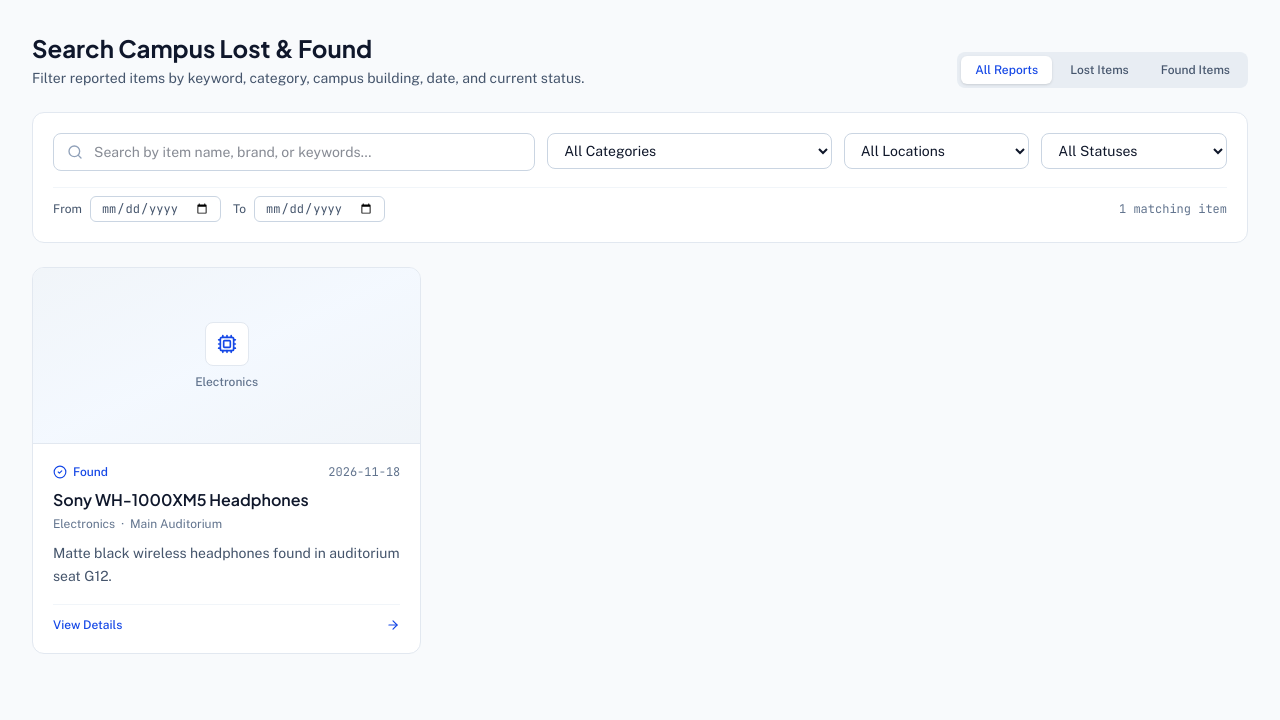
Test: Validation Testing Suite › TC-VAL-12: Flags invalid search input containing HTML/script angle brackets
Step 1. Type "<script>alert(1)</script>" into the search field named "Search by item name or keywords" → (294, 152), box [53,133,535,171]
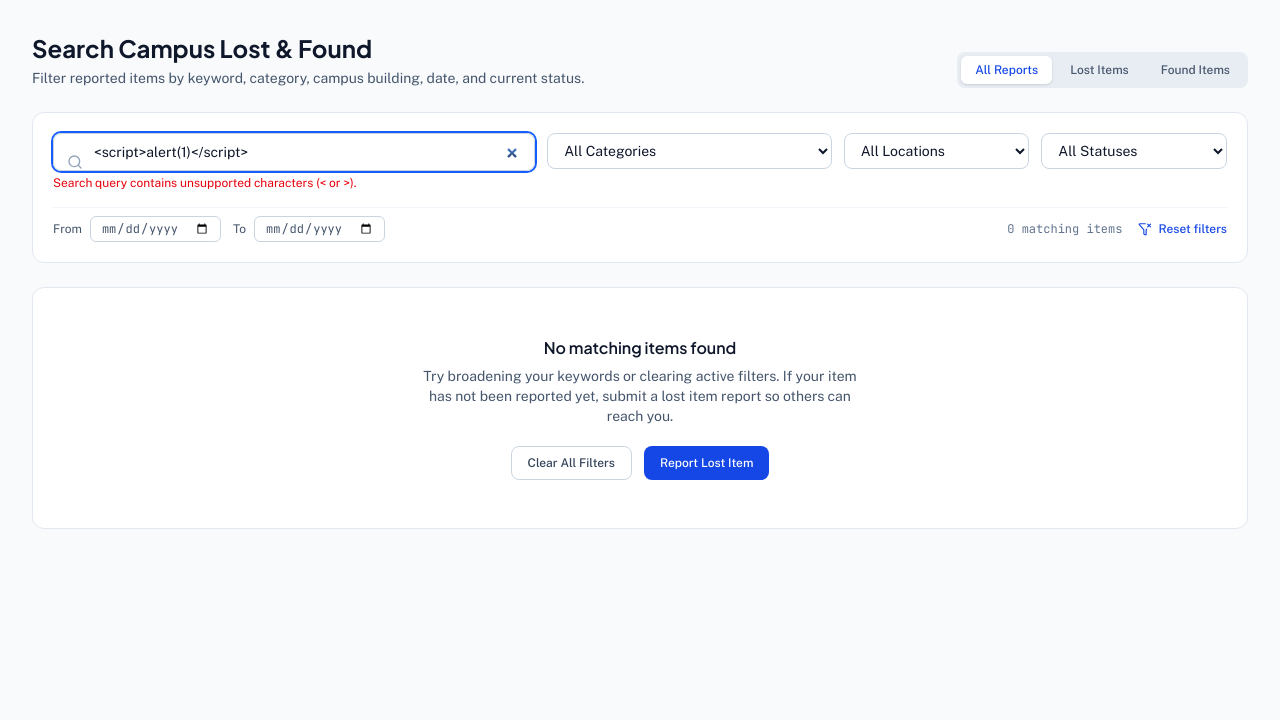
Expected: the message shows "unsupported characters", [53,176,356,190]
